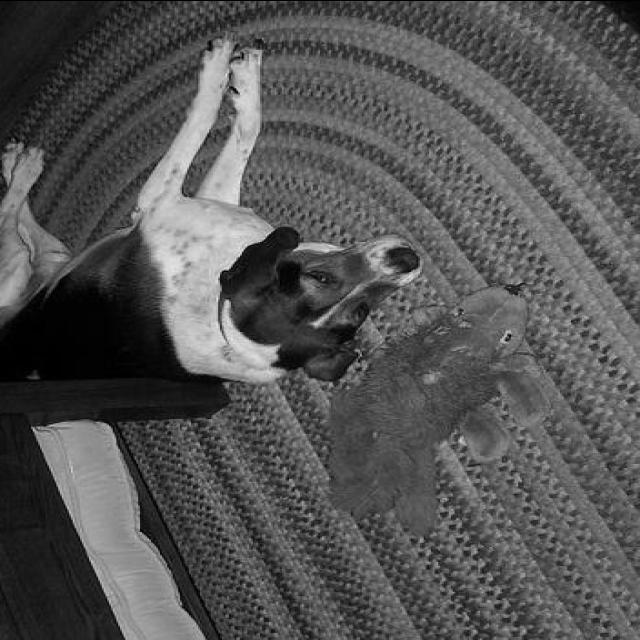laying down: (0, 27, 425, 398)
